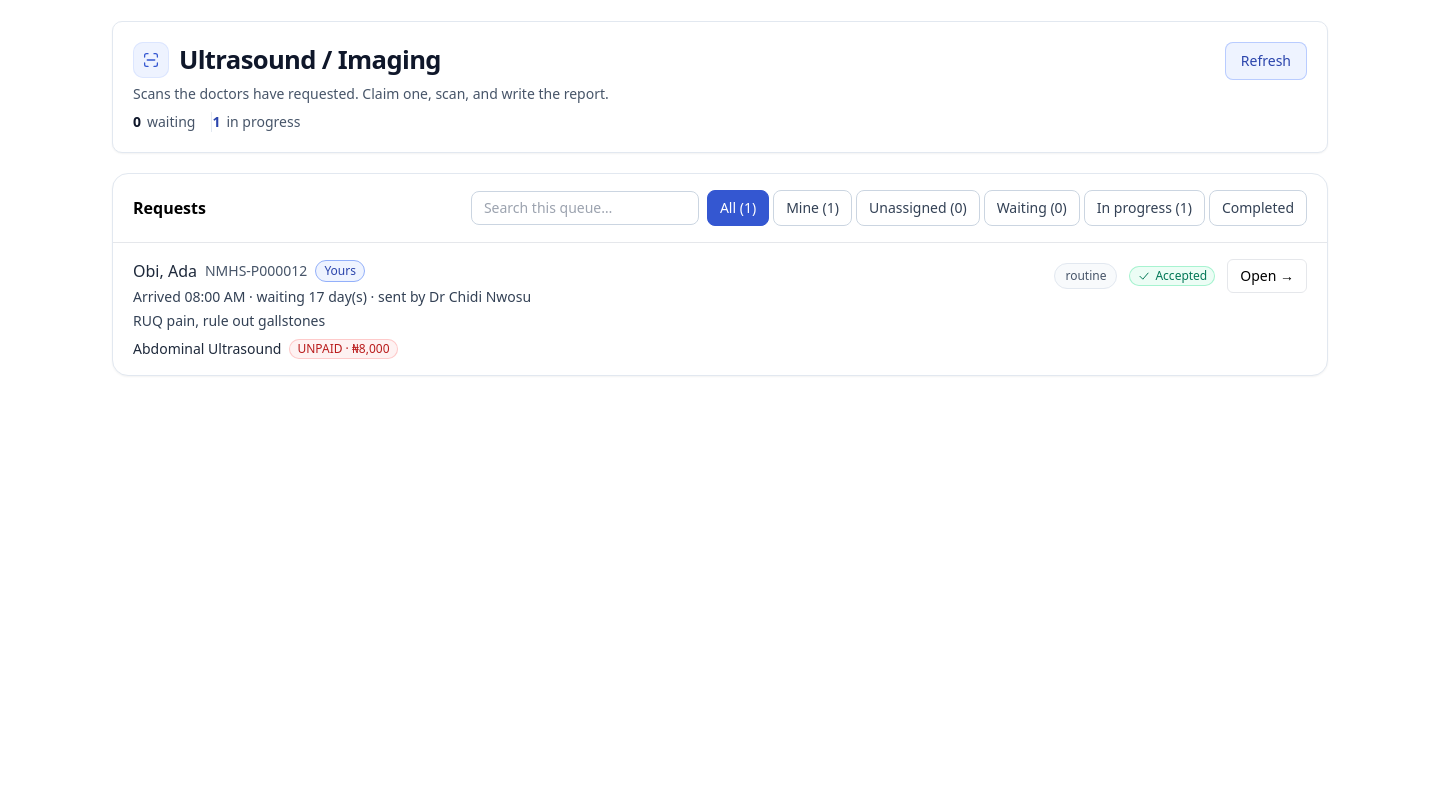
Test case: the imaging report the sonographer writes › keeps the single findings box for a unit whose report has no sections
Click the button "Open →" at (1267, 276), box [1227, 259, 1307, 293]
(page scrolled)
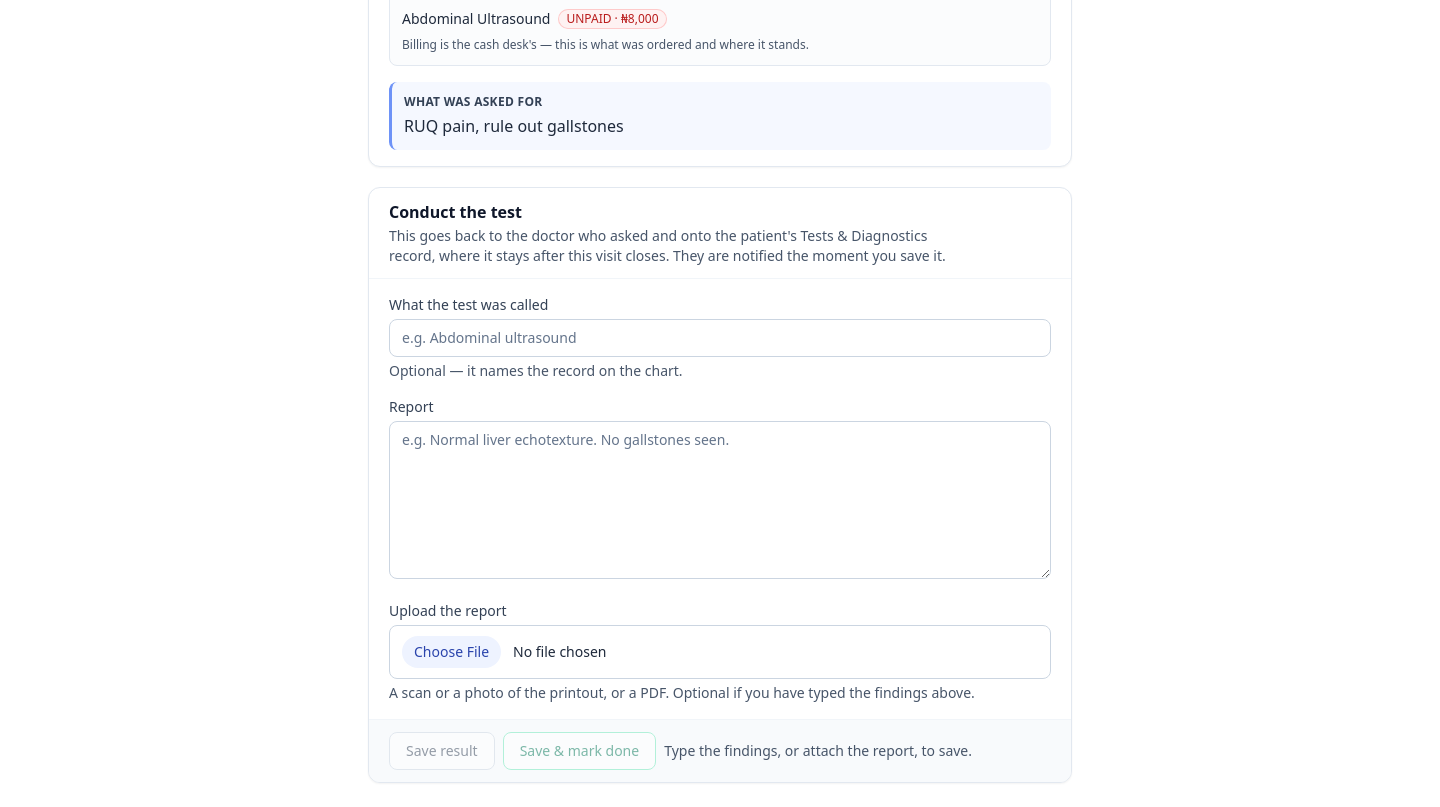
Check: the text box labelled "Report" is shown, box [389, 421, 1051, 579]
